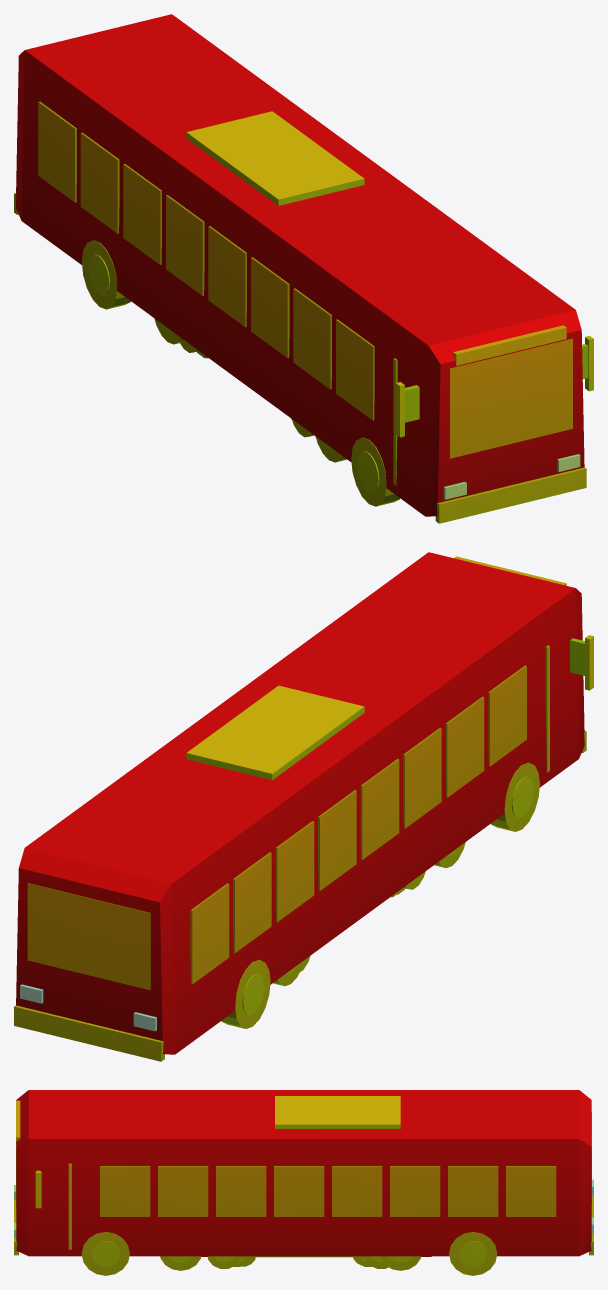
Rendered from vehicles.glb.
The picture shows the model from 3 angles, top to bottom: view 1: azimuth 30°, elevation 25°; view 2: azimuth 150°, elevation 25°; view 3: azimuth 270°, elevation 25°; orthographic projection. The views are drawn at different scales.
Parts seen in each view (by area): view 1: vehicles__bus__LOD0; view 2: vehicles__bus__LOD0; view 3: vehicles__bus__LOD0, vehicles__lorry__LOD0, vehicles__pickup__LOD0.
Boxes of the visible parts, x1=… form: vehicles__bus__LOD0: x1=14, y1=14, x2=593, y2=523; vehicles__bus__LOD0: x1=14, y1=552, x2=593, y2=1061; vehicles__bus__LOD0: x1=14, y1=1090, x2=593, y2=1275; vehicles__lorry__LOD0: x1=160, y1=1256, x2=421, y2=1270; vehicles__pickup__LOD0: x1=201, y1=1256, x2=431, y2=1268.
Size of what is drawn, in the model's own units: 3.16 by 3.2 by 12.
